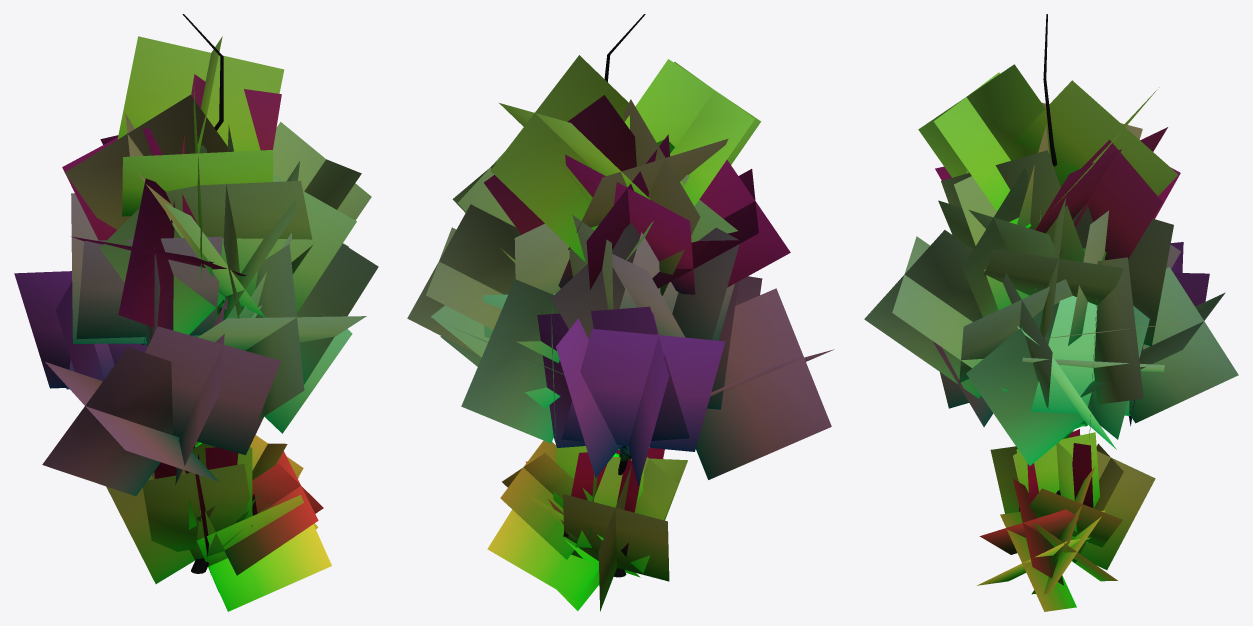
File: URP_P12_Tree_4_LOD_2.fbx
The picture shows the model from 3 angles, left to right: view 1: azimuth 30°, elevation 25°; view 2: azimuth 150°, elevation 25°; view 3: azimuth 270°, elevation 25°; orthographic projection. The views are drawn at different scales.
Parts seen in each view (by area): view 1: Tree_4_LOD_2; view 2: Tree_4_LOD_2; view 3: Tree_4_LOD_2.
Part boxes in pixels (x1=…): Tree_4_LOD_2: x1=14, y1=14, x2=378, y2=611; Tree_4_LOD_2: x1=407, y1=14, x2=834, y2=611; Tree_4_LOD_2: x1=864, y1=14, x2=1238, y2=611.
Size of the model in its own units: 184 by 298 by 178.
